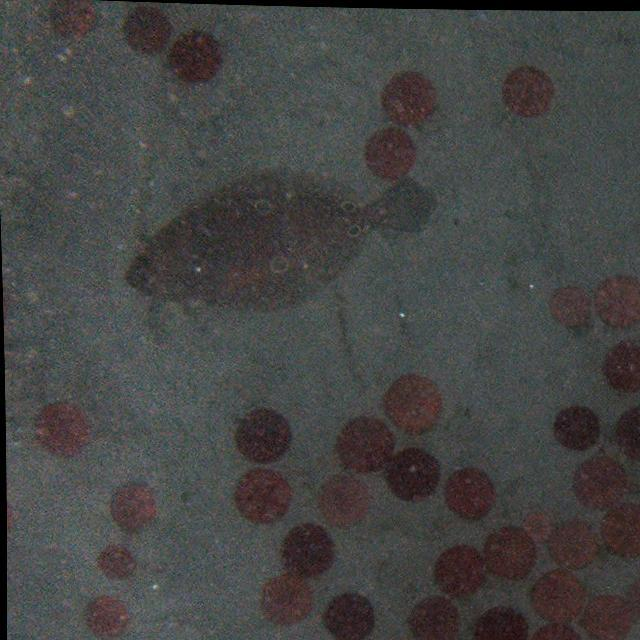flatfish: (119, 166, 434, 310)
